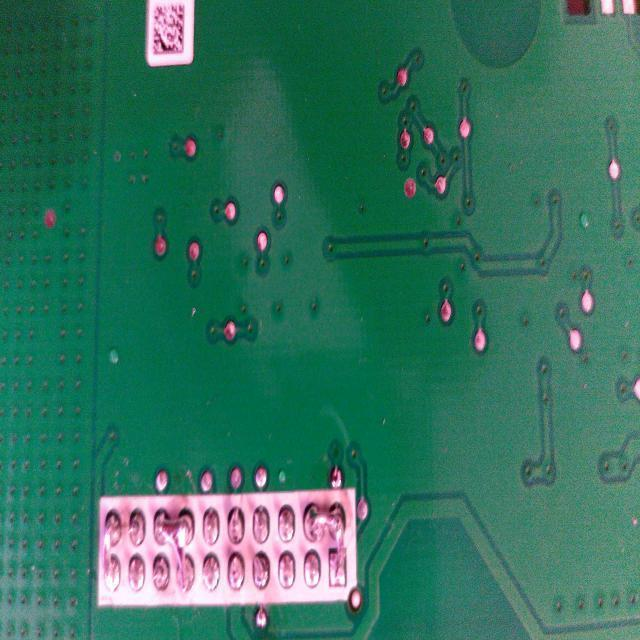Soldering bridge: (302, 502, 347, 592), (150, 508, 194, 598), (99, 506, 124, 594)
